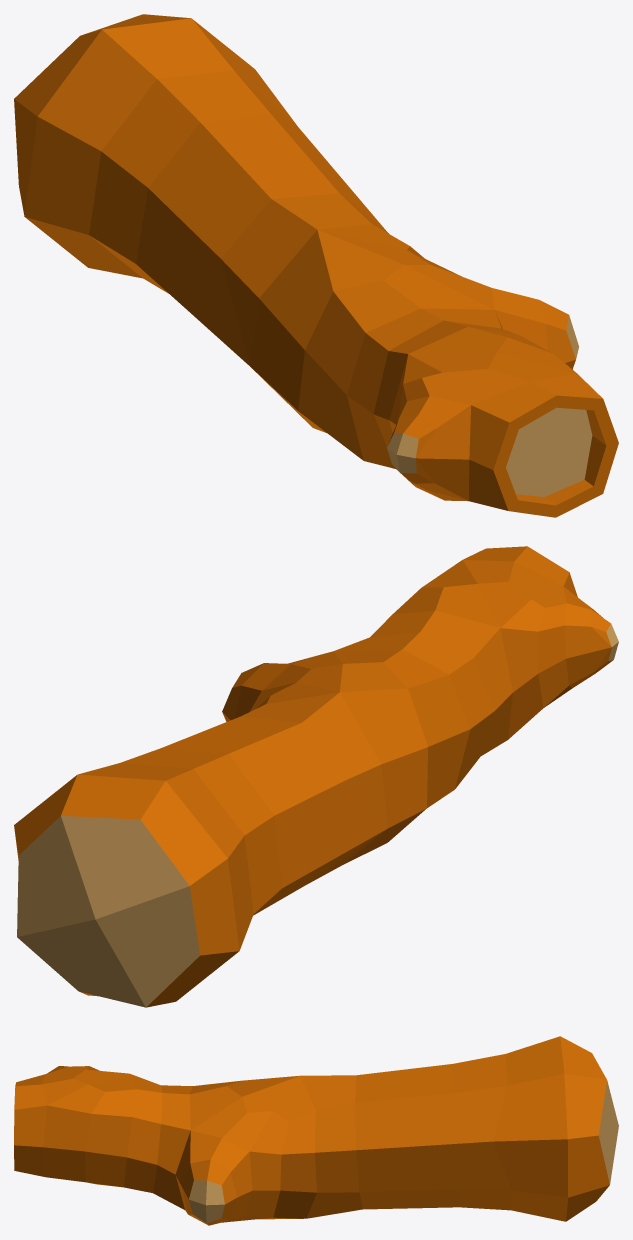
Rendered from Log01.fbx.
3 views of the same model, one above another, from view 1: azimuth 30°, elevation 25°; view 2: azimuth 150°, elevation 25°; view 3: azimuth 270°, elevation 25° (orthographic). The views are drawn at different scales.
Parts seen in each view (by area): view 1: Plane; view 2: Plane; view 3: Plane.
Boxes of the visible parts, bbox=[...] form: Plane: bbox=[14, 14, 618, 517]; Plane: bbox=[14, 546, 618, 1007]; Plane: bbox=[14, 1036, 618, 1225].
Bounding box in the file's own units: 71.42 × 56.54 × 193.
